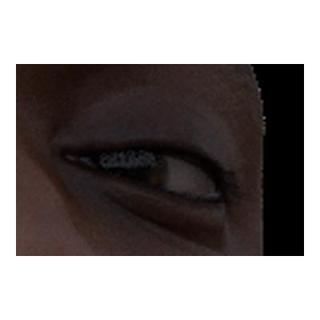pupil: (110, 156, 144, 190)
